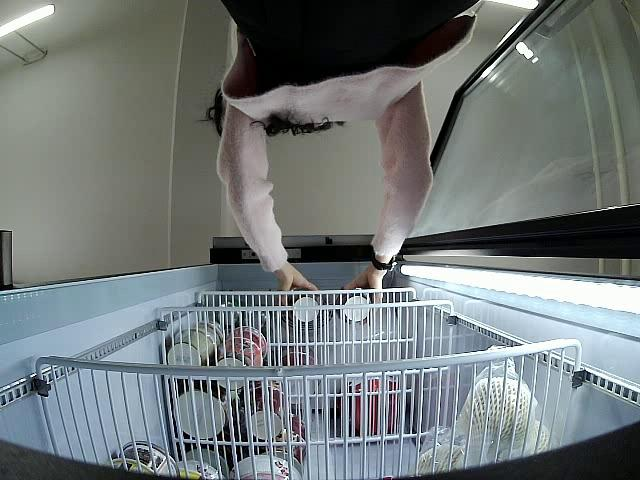00_hand: (349, 266, 388, 321), (277, 265, 319, 306)
08_buldak_S: (290, 286, 326, 324), (339, 287, 371, 324)
